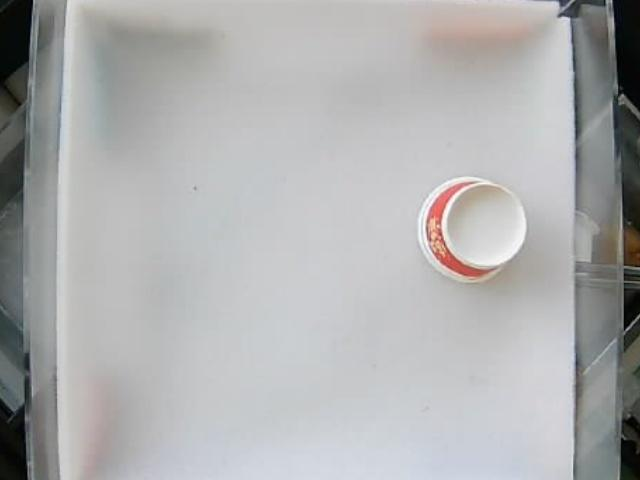Cup: (420, 172, 529, 284)
